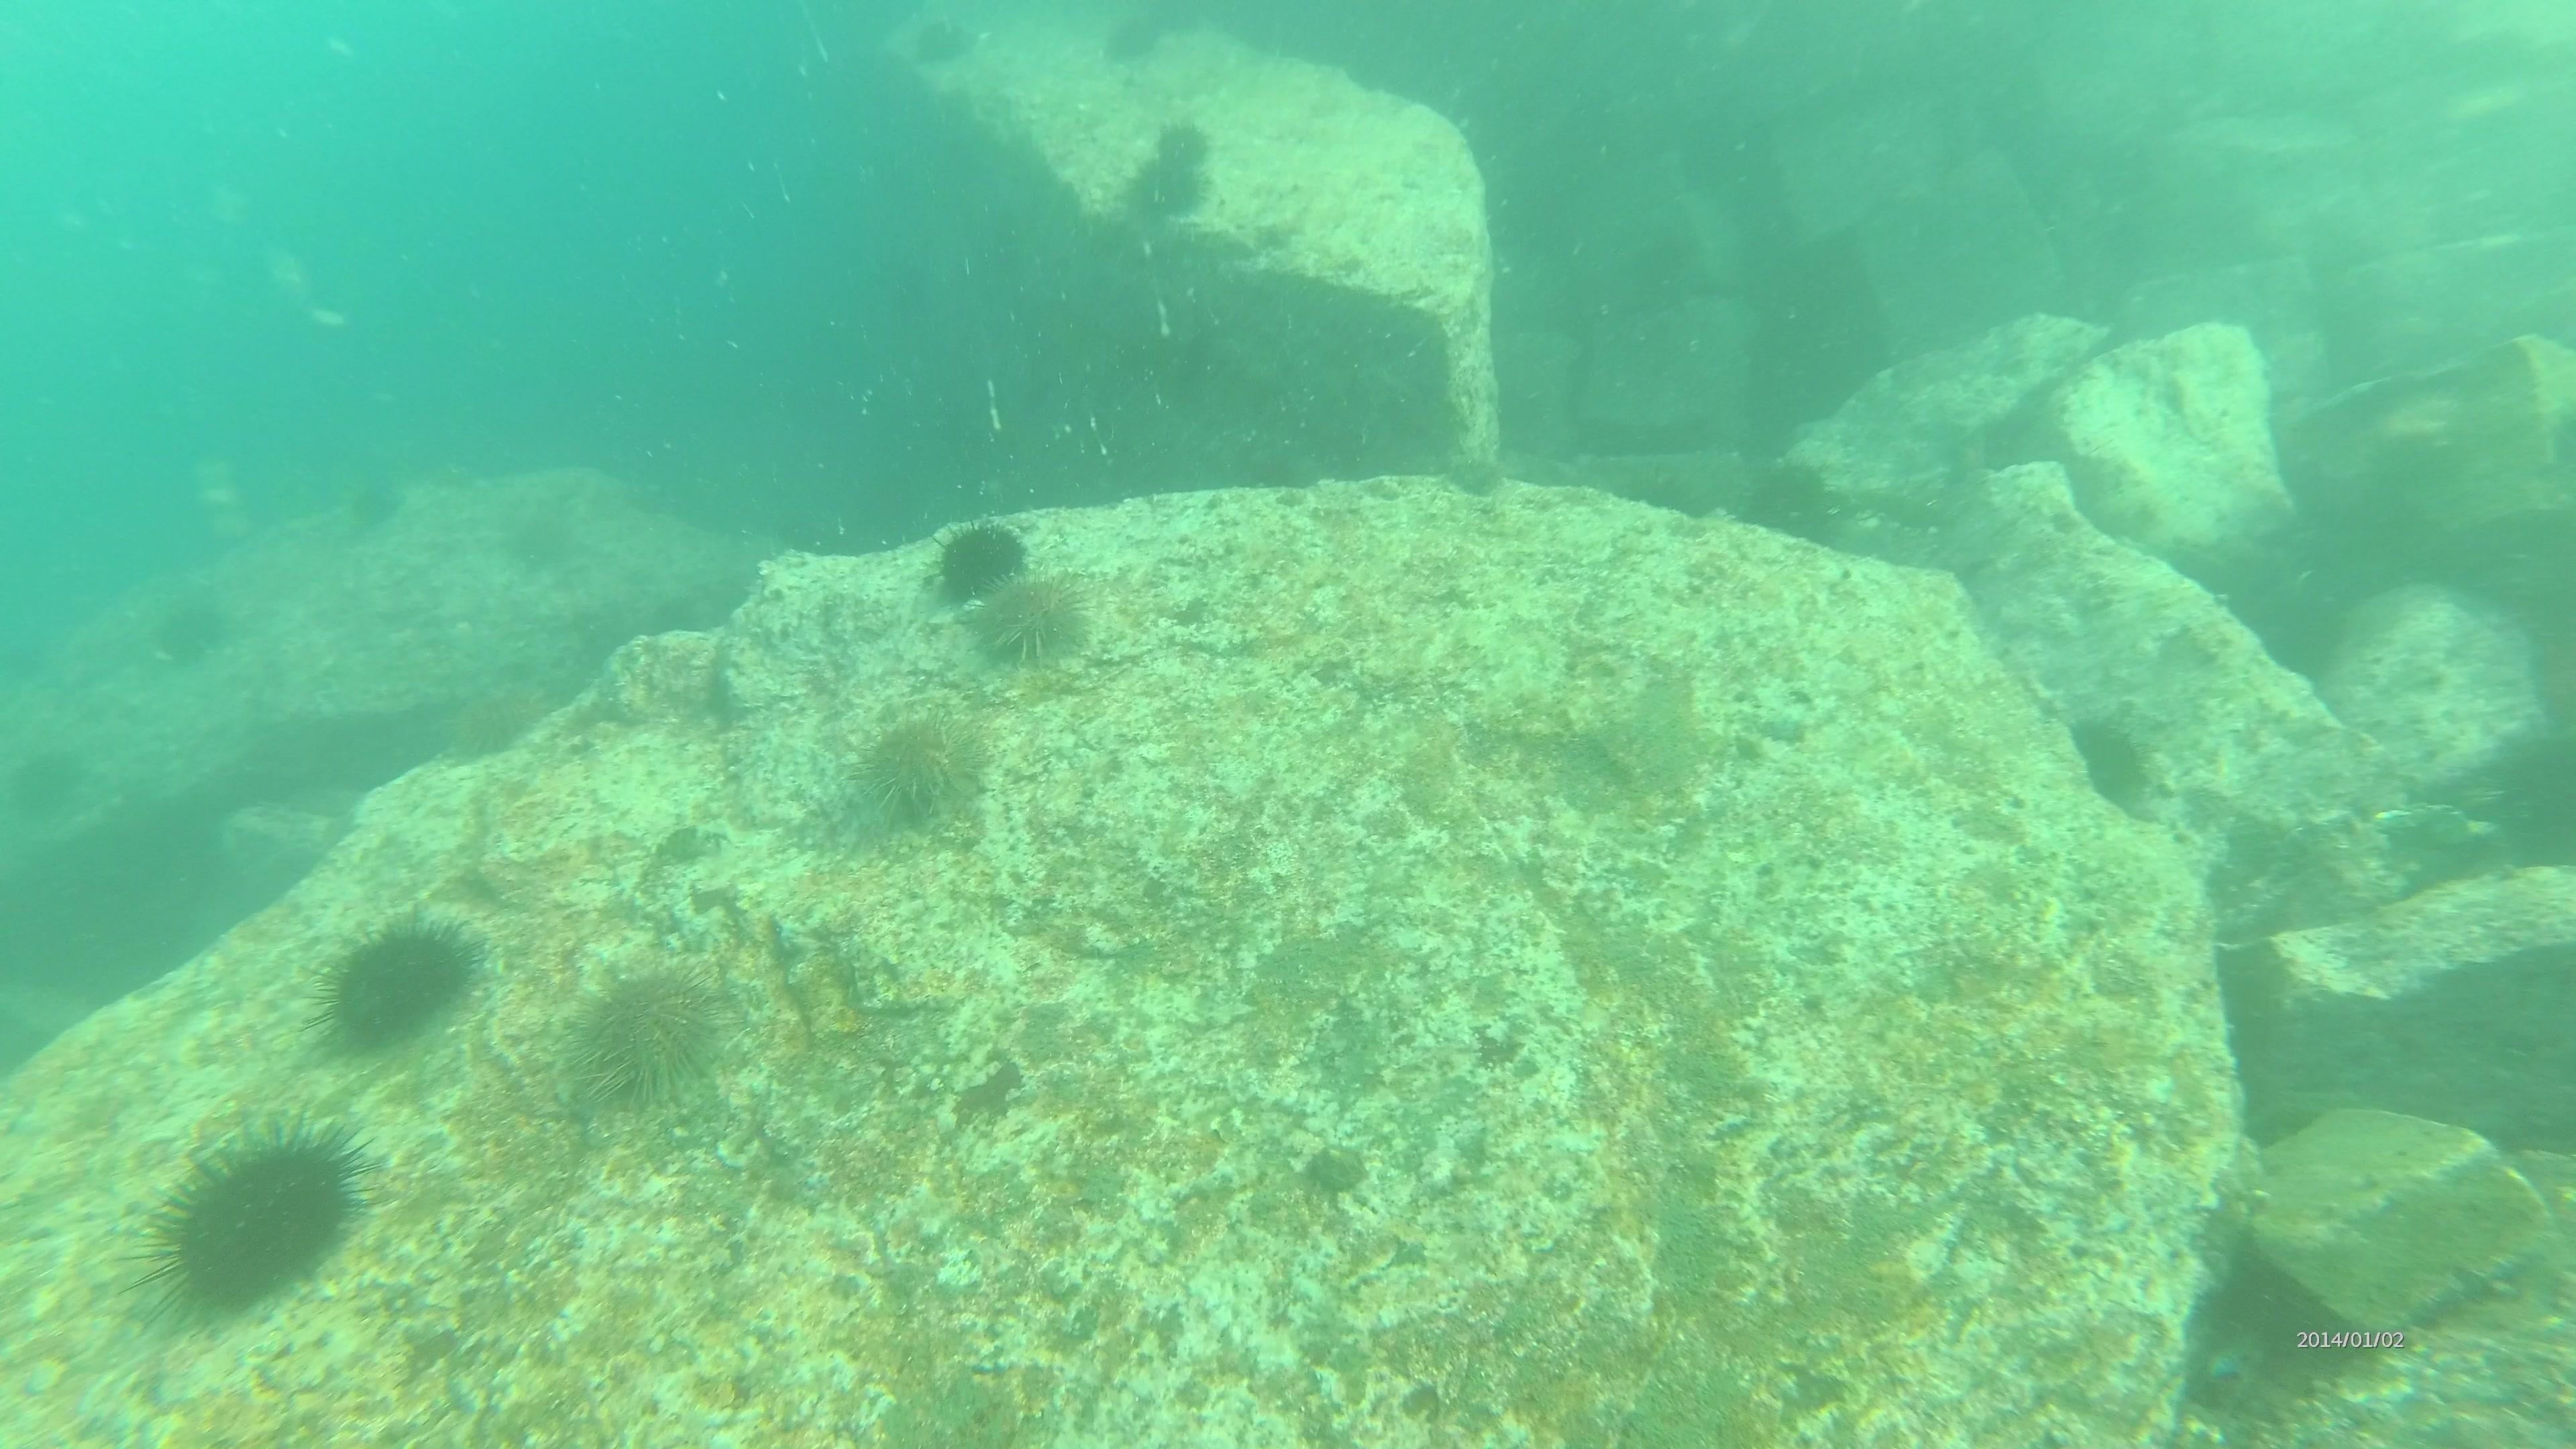echinus: (136, 1116, 377, 1323), (308, 908, 487, 1060), (568, 955, 734, 1111), (847, 706, 991, 833), (2480, 715, 2574, 874), (966, 568, 1095, 674), (1736, 455, 1847, 550), (435, 676, 548, 766), (2063, 706, 2158, 812), (924, 515, 1031, 609), (5, 738, 92, 832), (147, 587, 235, 672), (495, 497, 584, 580), (1125, 159, 1214, 226), (1093, 7, 1175, 71), (902, 9, 982, 73), (340, 465, 409, 538), (1157, 119, 1207, 165), (1454, 455, 1486, 494)
